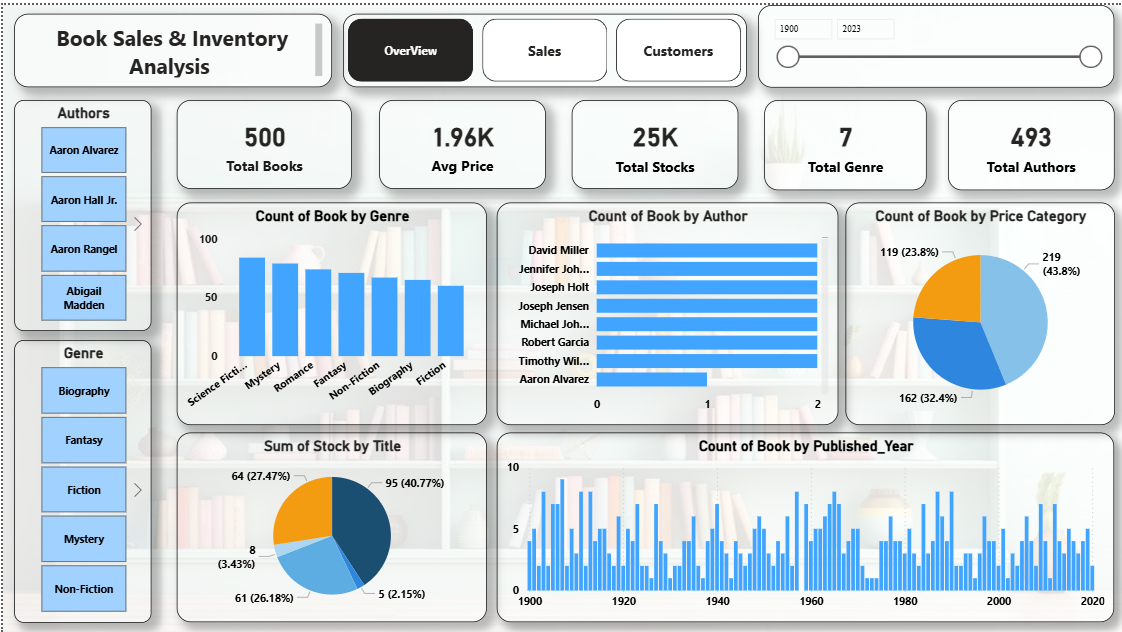

This screenshot's page, from the dashboard's own definition file:
{"tool":"powerbi","page":{"name":"OverView","canvas":[1280,720],"ordinal":0},"visuals":[{"type":"image","box":[0,0,1280,720],"z":0},{"type":"card","fields":{"Values":["Books.total books"]},"box":[198.6,108.6,200,101.4],"z":1000},{"type":"card","fields":{"Values":["Books.Total Genre"]},"box":[870,108.6,185.7,102.9],"z":2000},{"type":"card","fields":{"Values":["Books.Avg Price"]},"box":[430,108.6,190,101.4],"z":4000},{"type":"card","fields":{"Values":["Books.Total Authors"]},"box":[1080,108.6,190,102.9],"z":5000},{"type":"columnChart","fields":{"Category":["Books.Genre"],"Y":["Books.Count of Book ID"]},"box":[198.1,226.2,354.6,254.3],"z":6000},{"type":"clusteredBarChart","fields":{"Category":["Books.Author"],"Y":["Books.Count of Book ID"]},"box":[564.9,226.2,390.1,254.3],"z":7000},{"type":"columnChart","fields":{"Y":["Books.Count of Book ID"],"Category":["Books.Published_Year"]},"box":[564.9,489.1,705.6,216.4],"z":8000},{"type":"slicer","title":"Genre","fields":{"Values":["Books.Genre"]},"box":[12.9,382.9,157.1,322.9],"z":9000},{"type":"slicer","title":"Authors","fields":{"Values":["Books.Author"]},"box":[12.9,108.6,157.1,264.3],"z":10000},{"type":"pieChart","fields":{"Category":["Books.Title"],"Y":["Sum(Books.Stock)"]},"box":[198.1,489.1,354.6,216.4],"z":11000},{"type":"slicer","title":"Published Year","fields":{"Values":["Books.Published_Year"]},"box":[862.9,0,407.1,94.3],"z":12000},{"type":"pieChart","fields":{"Category":["Books.Price Category"],"Y":["Books.Count of Book ID"]},"box":[962.4,226.2,308.2,254.3],"z":13000},{"type":"textbox","box":[12.9,10,362.9,84.3],"z":14000},{"type":"actionButton","box":[705.7,12.9,124.3,81.4],"z":15000},{"type":"pageNavigator","box":[388.6,10,461.4,84.3],"z":15001},{"type":"card","fields":{"Values":["Books.Total Stocks"]},"box":[650,108.6,190,101.4],"z":15002}]}

Visuals, with their boxes in screenshot pixels (x1, y1, x2, y2), scaled from the page's 1280x720 canvas onto the 1122x632 screenshot:
image: 0, 0, 1121, 631
card - Books.total books: 174, 95, 349, 184
card - Books.Total Genre: 763, 95, 925, 186
card - Books.Avg Price: 377, 95, 543, 184
card - Books.Total Authors: 947, 95, 1113, 186
columnChart - Books.Genre x Books.Count of Book ID: 174, 199, 484, 422
clusteredBarChart - Books.Author x Books.Count of Book ID: 495, 199, 837, 422
columnChart - Books.Count of Book ID x Books.Published_Year: 495, 429, 1114, 619
"Genre" slicer: 11, 336, 149, 620
"Authors" slicer: 11, 95, 149, 327
pieChart - Books.Title x Sum(Books.Stock): 174, 429, 484, 619
"Published Year" slicer: 756, 0, 1113, 83
pieChart - Books.Price Category x Books.Count of Book ID: 844, 199, 1114, 422
textbox: 11, 9, 329, 83
actionButton: 619, 11, 728, 83
pageNavigator: 341, 9, 745, 83
card - Books.Total Stocks: 570, 95, 736, 184
